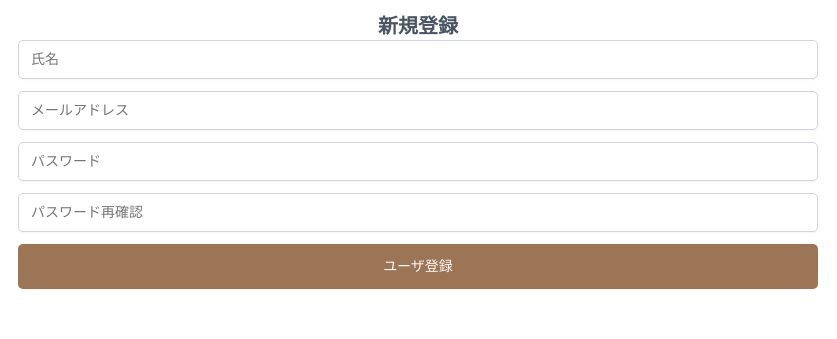
Test: SignupForm › バリデーション › パスワードに英字と数字が含まれていないとエラーが表示される
Type "テストユーザー" into the field with placeholder "氏名" at (418, 60), box left=18, top=40, right=818, bottom=79
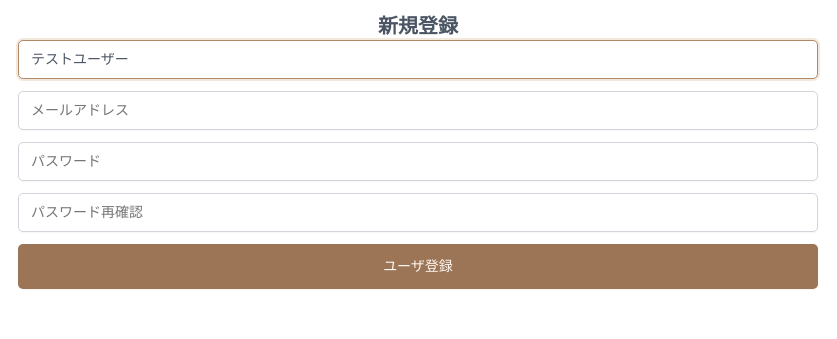
Type "test@example.com" into the field with placeholder "メールアドレス" at (418, 110), box left=18, top=91, right=818, bottom=130
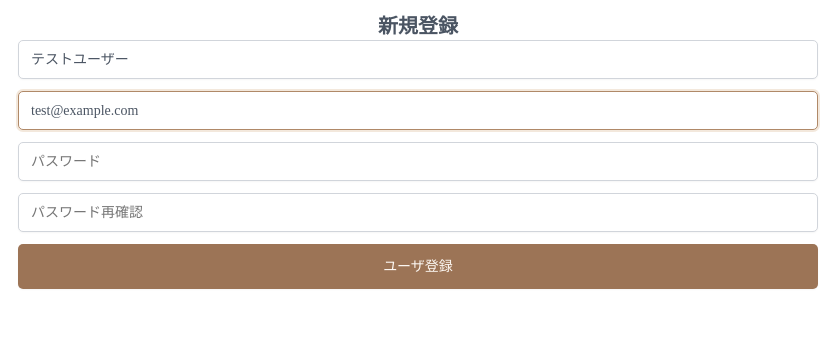
Type "passwordonly" into the password field with placeholder "パスワード" at (418, 162), box left=18, top=142, right=818, bottom=181
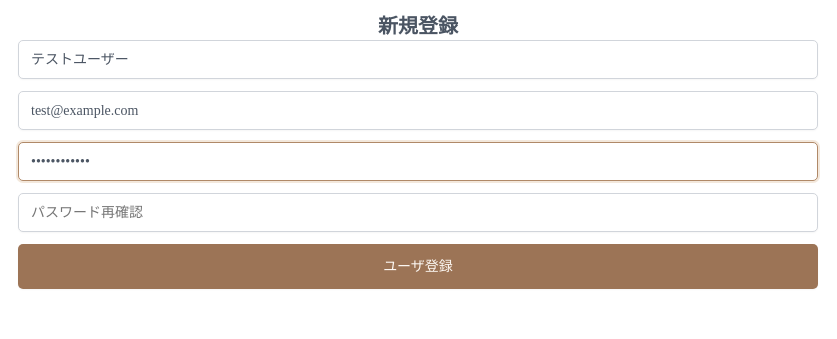
Type "passwordonly" into the password field with placeholder "パスワード再確認" at (418, 212), box left=18, top=193, right=818, bottom=232
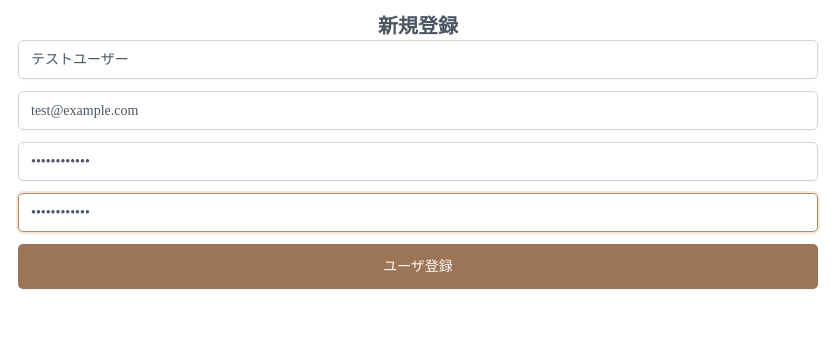
Click the button "ユーザ登録" at (418, 266), box left=18, top=244, right=818, bottom=289
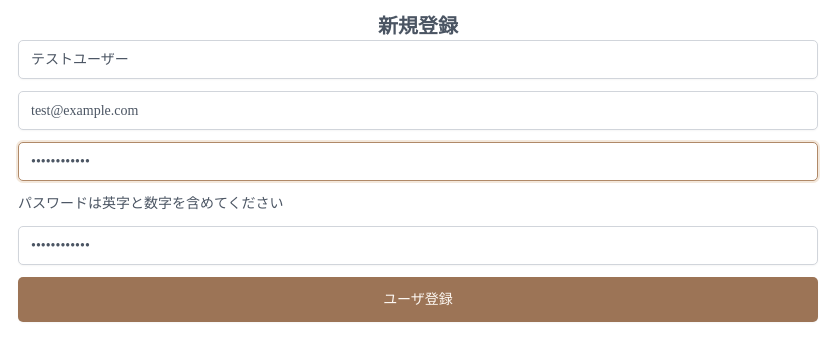
Check: the text "パスワードは英字と数字を含めてください" is shown, box left=18, top=196, right=284, bottom=211
